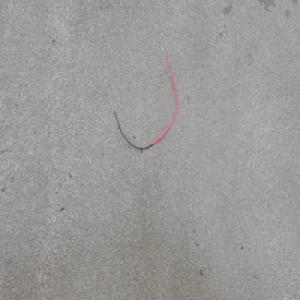Wire: (108, 43, 177, 150)
